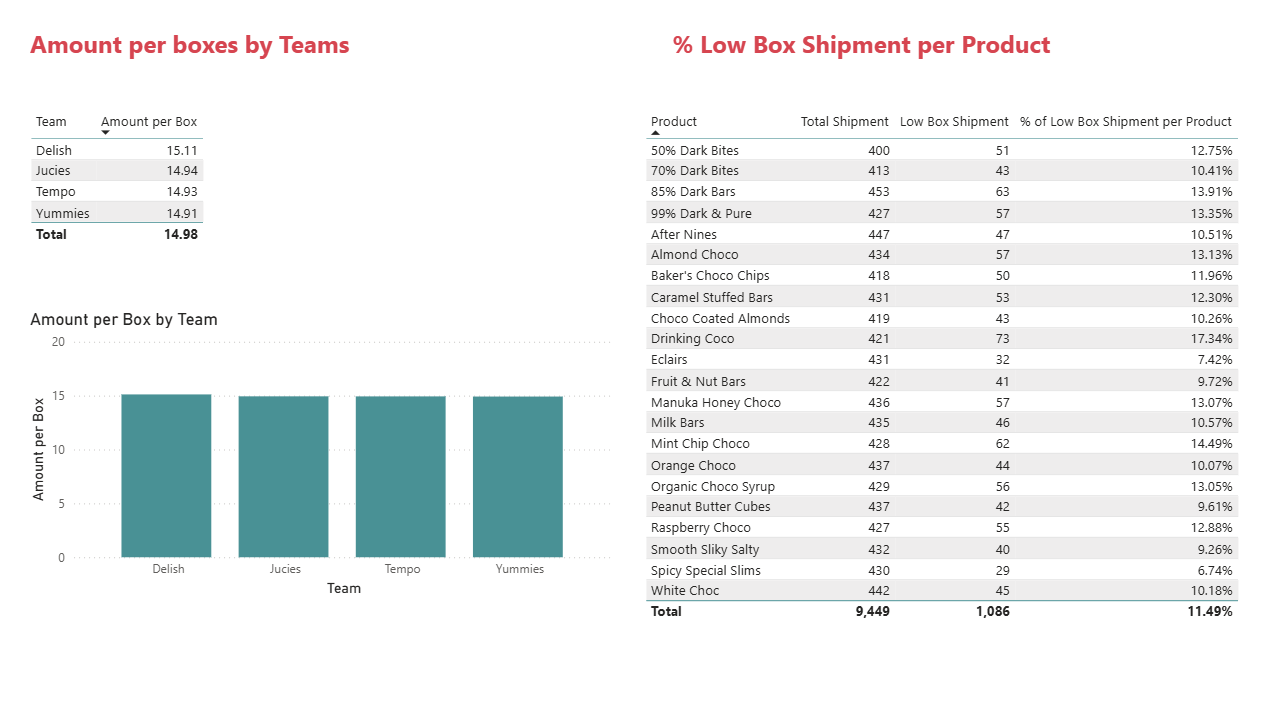

Layout of this report page (visuals, bound fields, positions):
{"tool":"powerbi","page":{"name":"% LOW BOX ","canvas":[1280,720],"ordinal":2},"visuals":[{"type":"tableEx","fields":{"Values":["people.Team","sales.Amount per Box"]},"box":[25,110,281.2,203.8],"z":0},{"type":"columnChart","fields":{"Category":["people.Team"],"Y":["sales.Amount per Box"]},"box":[25,313.8,593.8,292.5],"z":1000},{"type":"textbox","box":[25,27.5,373.8,60],"z":2000},{"type":"tableEx","fields":{"Values":["sales.Product","sales.Total Shipment","sales.Low Box Shipment","sales.% of Low Box Shipment per Product"]},"box":[640,110,611.2,545],"z":3000},{"type":"textbox","box":[667.5,27.5,571.2,60],"z":4000}]}

Visuals, with their boxes in screenshot pixels (x1, y1, x2, y2), scaled from the page's 1280x720 canvas onto the 1278x714 screenshot:
tableEx - people.Team x sales.Amount per Box: [left=25, top=109, right=306, bottom=311]
columnChart - people.Team x sales.Amount per Box: [left=25, top=311, right=618, bottom=601]
textbox: [left=25, top=27, right=398, bottom=87]
tableEx - sales.Product x sales.Total Shipment: [left=639, top=109, right=1249, bottom=650]
textbox: [left=666, top=27, right=1237, bottom=87]
